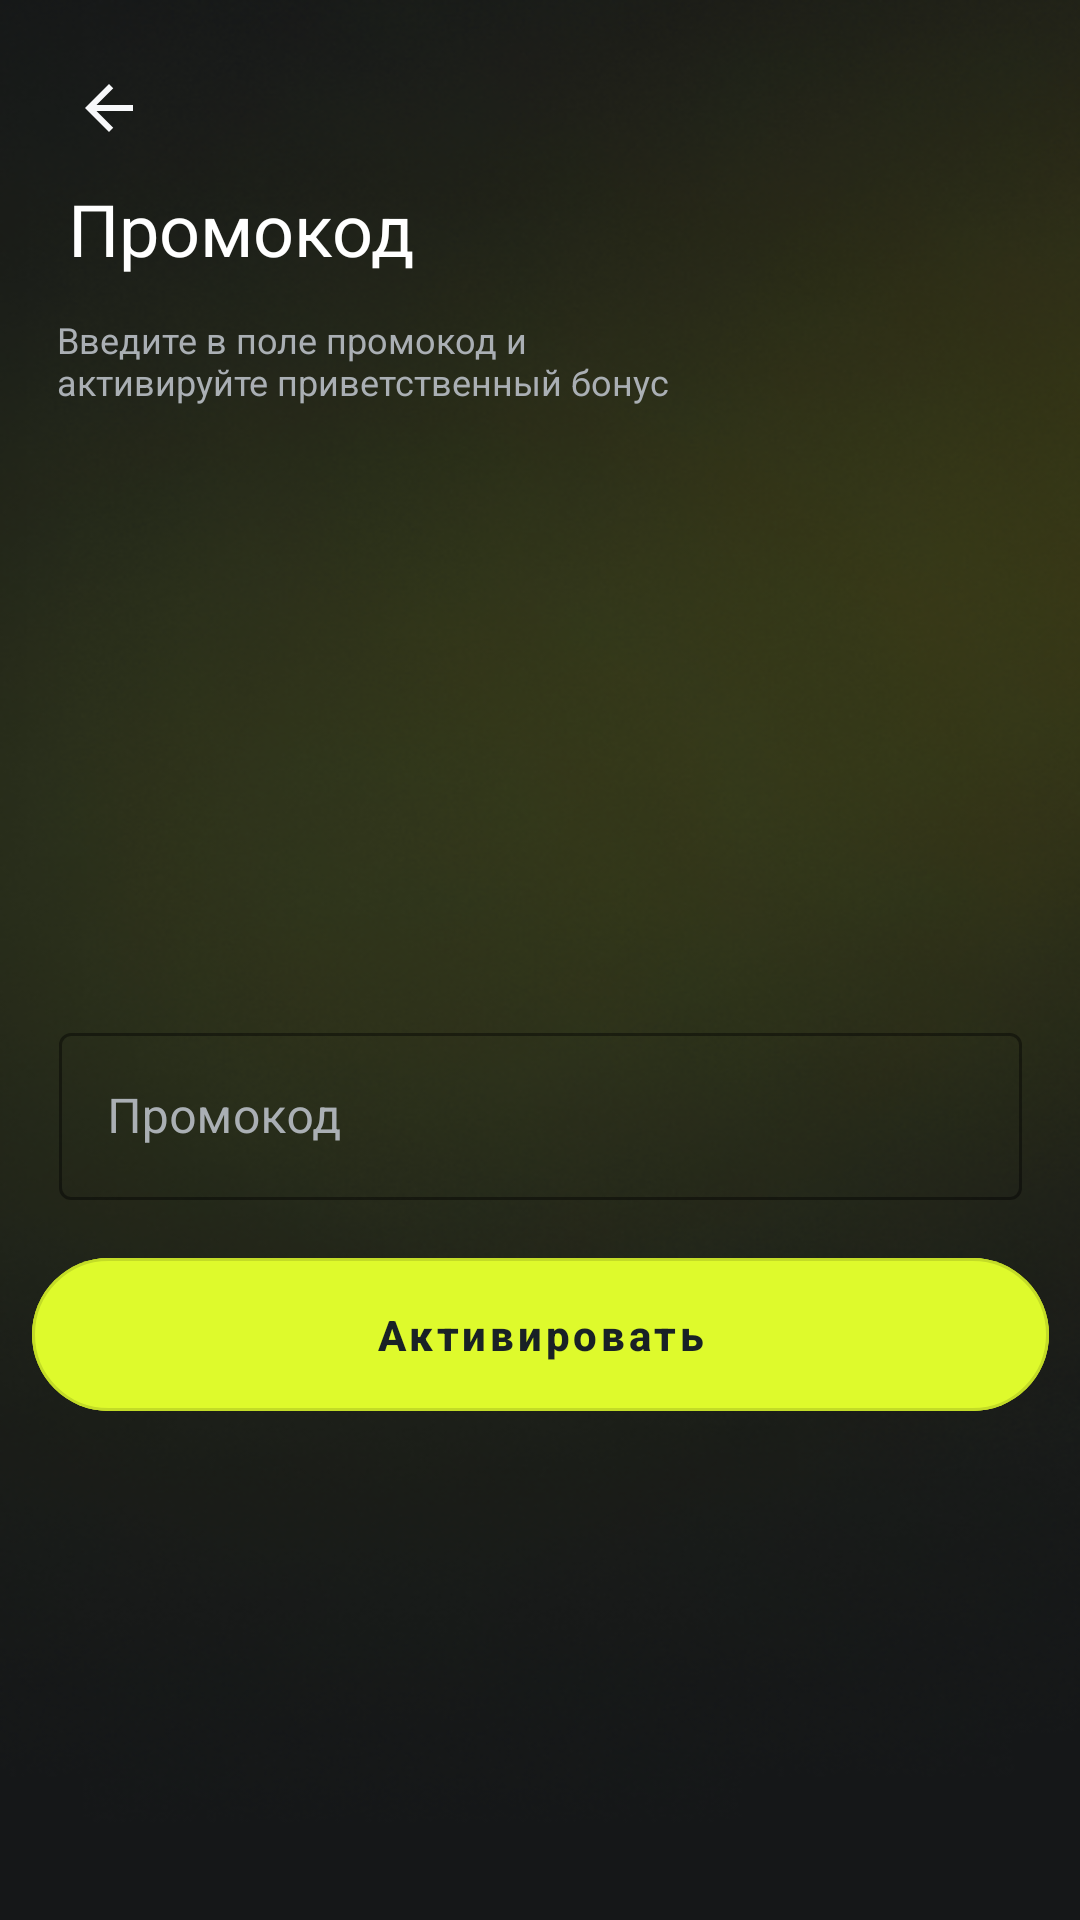

Icon click points for this 1080px×1920px phone screenshot, format [x,y]:
iconbackvector: [109,108]
